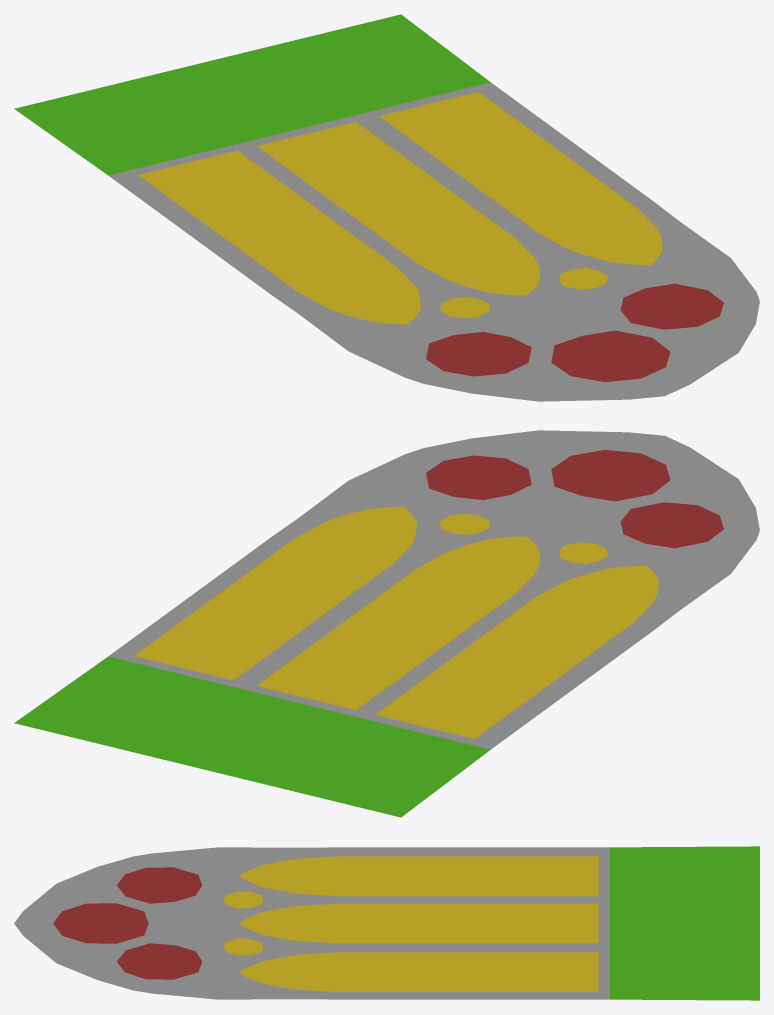
The model's file is Cath_Windows_2.fbx.
3 views of the same model, one above another, from view 1: azimuth 30°, elevation 25°; view 2: azimuth 150°, elevation 25°; view 3: azimuth 270°, elevation 25° (orthographic). The views are drawn at different scales.
Parts seen in each view (by area): view 1: Cath_Windows_2; view 2: Cath_Windows_2; view 3: Cath_Windows_2.
Part boxes in pixels (box(x1,y1,x2,y2)): Cath_Windows_2: box(14, 14, 759, 401); Cath_Windows_2: box(14, 430, 759, 817); Cath_Windows_2: box(14, 846, 759, 1000).
Size of the model in its own units: 302 by 618 by 5.4e-05.
